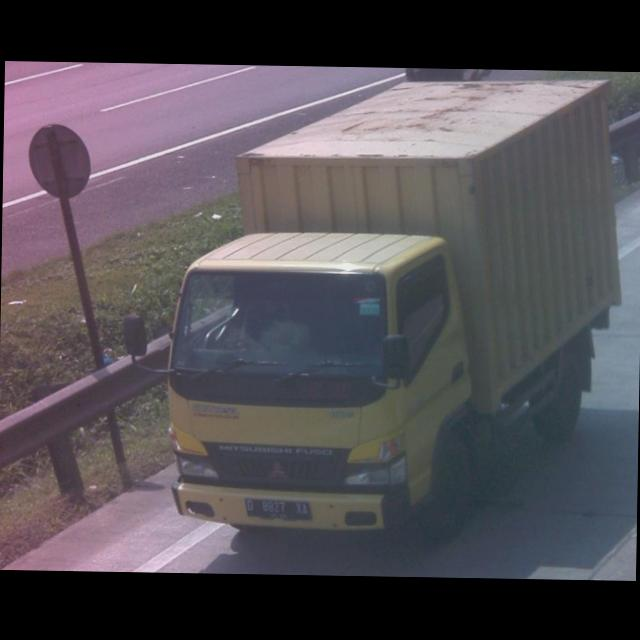plate: (242, 494, 313, 522)
